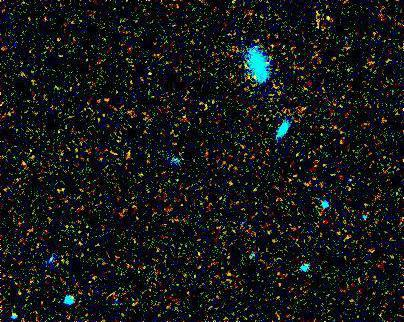star: (250, 49, 280, 79)
